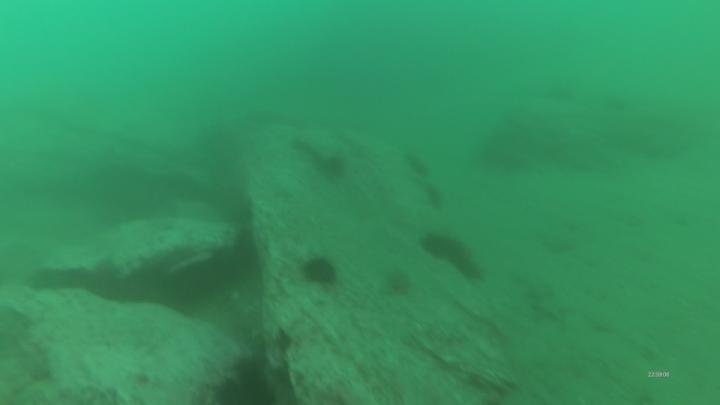echinus: (221, 379, 272, 405), (304, 260, 341, 287), (424, 235, 452, 258)
